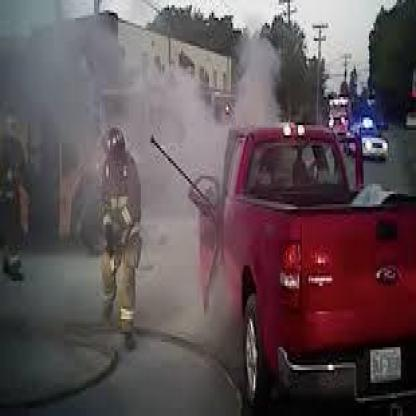smoke: (145, 82, 237, 309)
